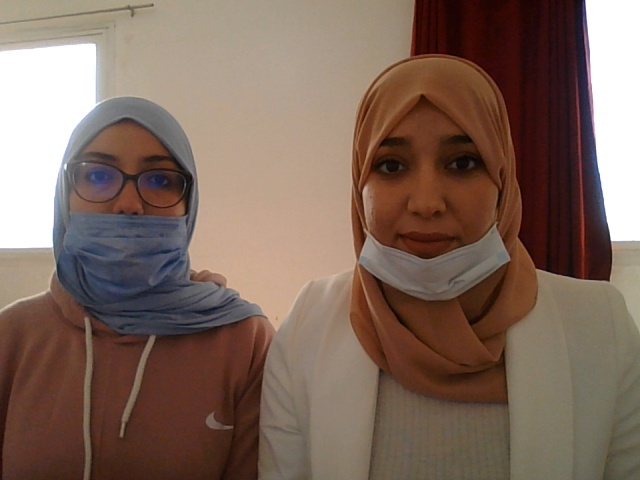mask_weared_incorrect: (363, 93, 509, 318), (48, 124, 191, 320)
